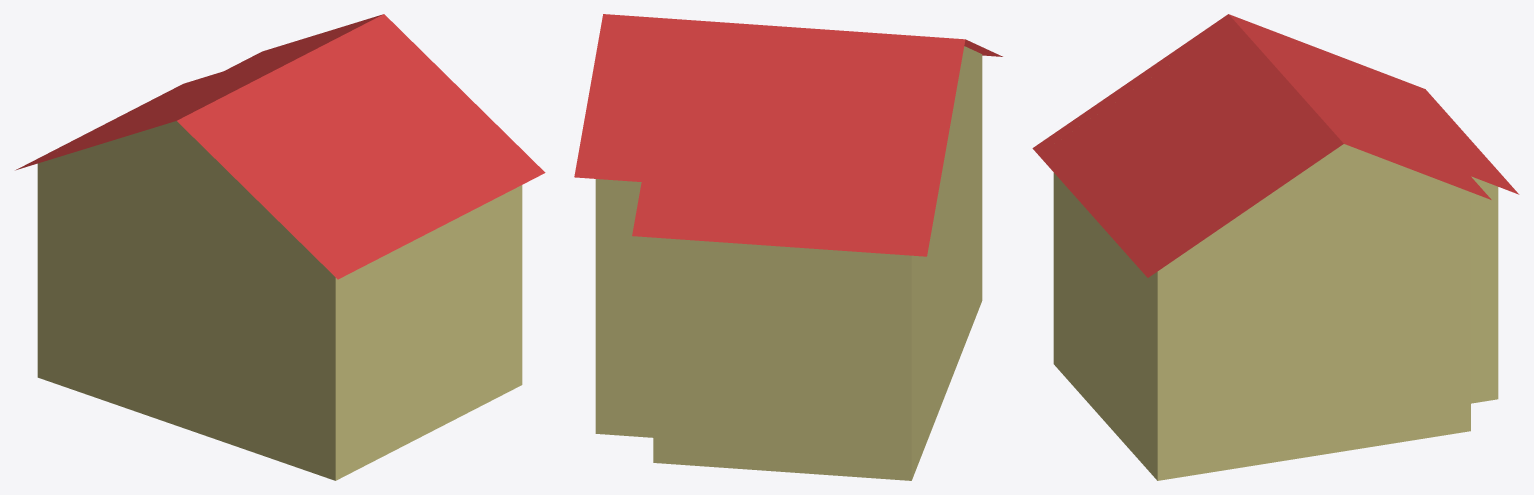
The picture shows the model from 3 angles, left to right: view 1: azimuth 30°, elevation 25°; view 2: azimuth 150°, elevation 25°; view 3: azimuth 270°, elevation 25°; orthographic projection. The views are drawn at different scales.
Bounding box in the file's own units: 13.71 × 14.68 × 10.47.
